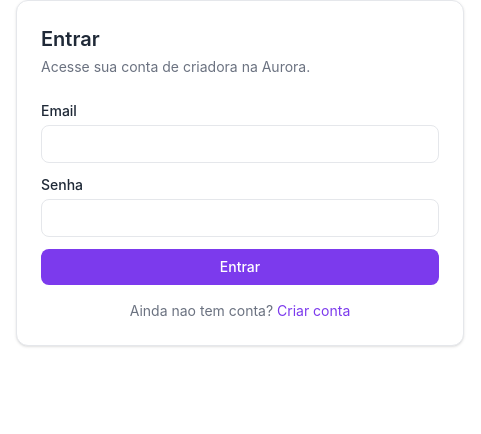
Test: CreatorAccessPage - US-24.1 real creator login (replaces the E3 pilot stub) › shows an invalid-credentials message for a wrong password
In the field labelled "Email": (240, 144) 41,125 -> 439,163, type "duda@example.com"
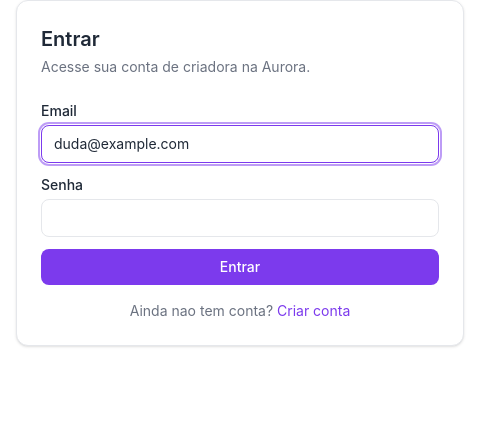
In the password field labelled "Senha": (240, 218) 41,199 -> 439,237, type "WrongPassword1!"
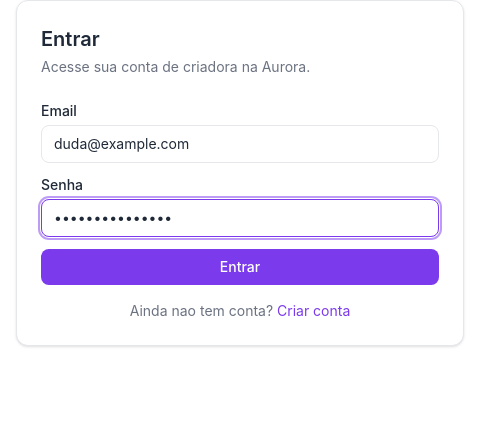
Click the button "Entrar": (240, 267) 41,249 -> 439,285
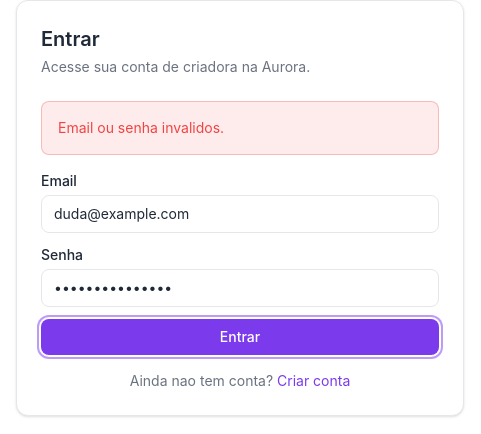
Expected: the text "Email ou senha invalidos." is shown, 41,101 -> 439,155
